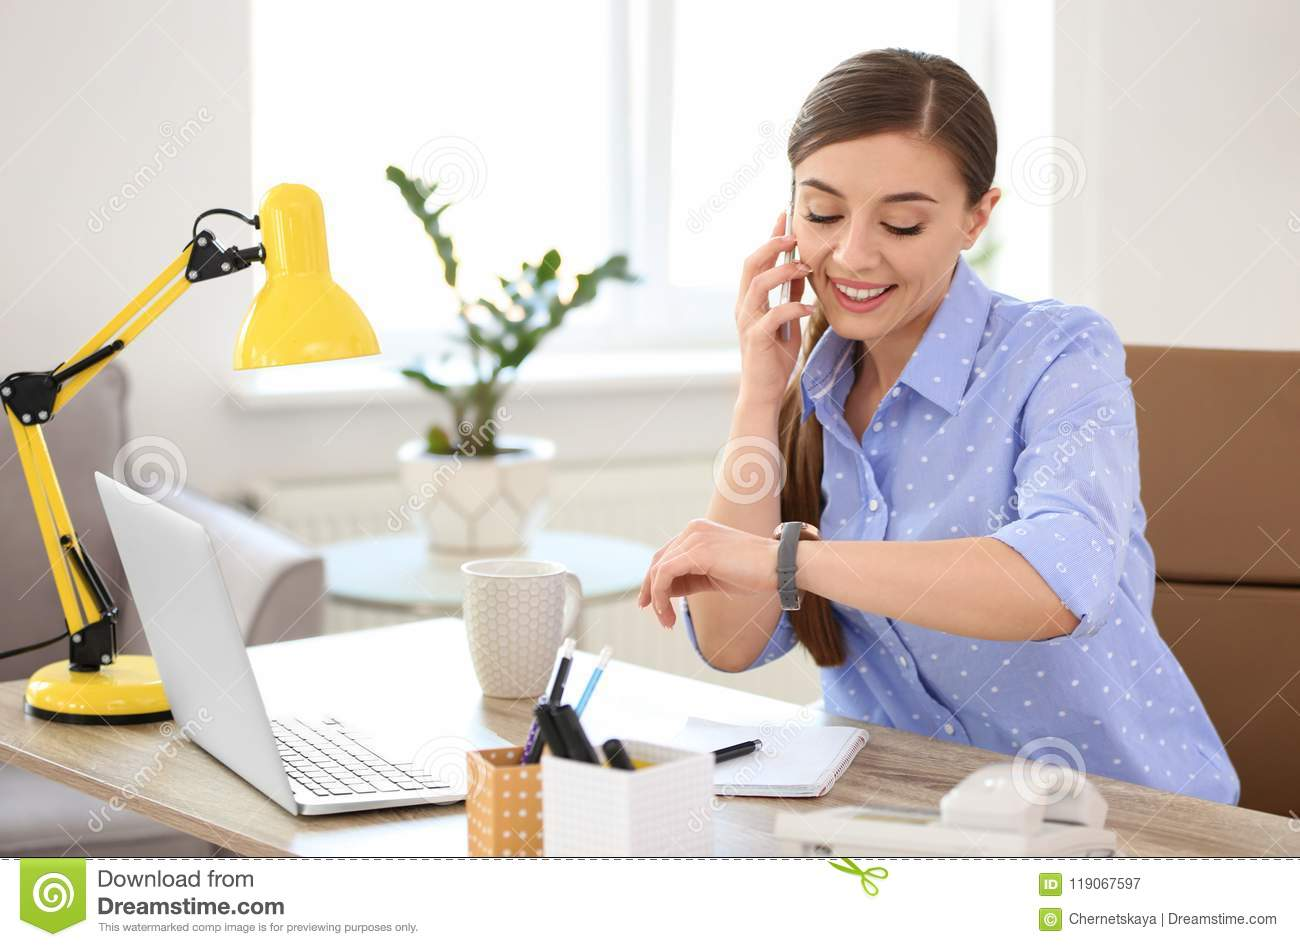phone: (773, 162, 798, 348)
talk: (734, 153, 944, 413)
